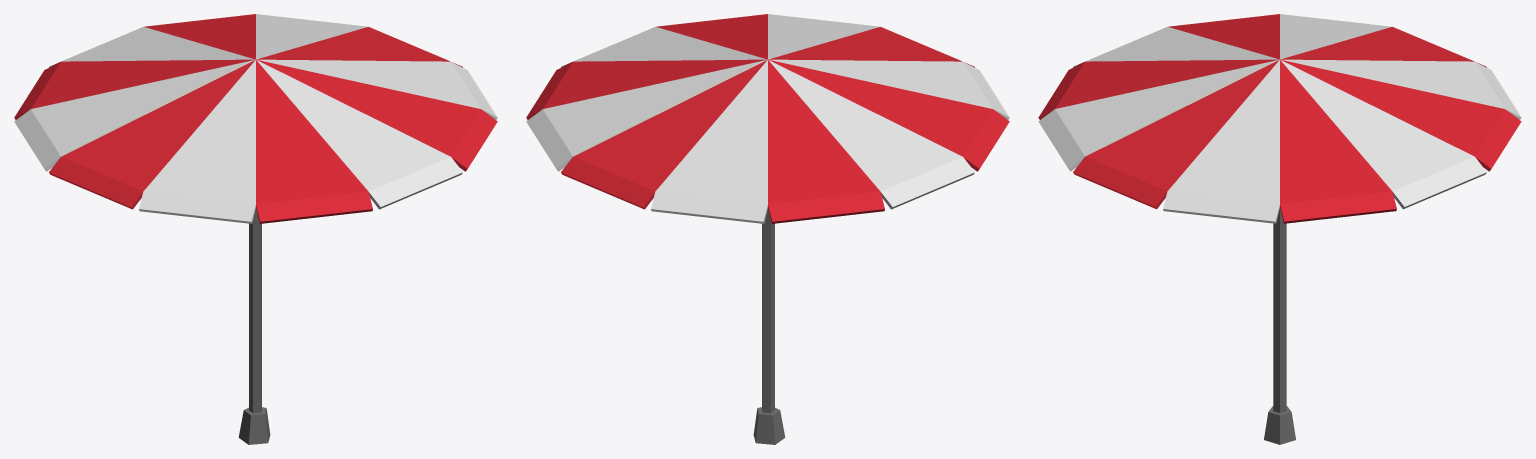
File: Umbrella_01.fbx
3 views of the same model, side by side, from view 1: azimuth 30°, elevation 25°; view 2: azimuth 150°, elevation 25°; view 3: azimuth 270°, elevation 25° (orthographic).
Visible parts, largest first — view 1: Umbrella; view 2: Umbrella; view 3: Umbrella.
Boxes of the visible parts, x1=… form: Umbrella: x1=14, y1=14, x2=497, y2=444; Umbrella: x1=526, y1=14, x2=1009, y2=444; Umbrella: x1=1038, y1=14, x2=1521, y2=444.
Bounding box in the file's own units: 3.43 × 2.96 × 3.43.
